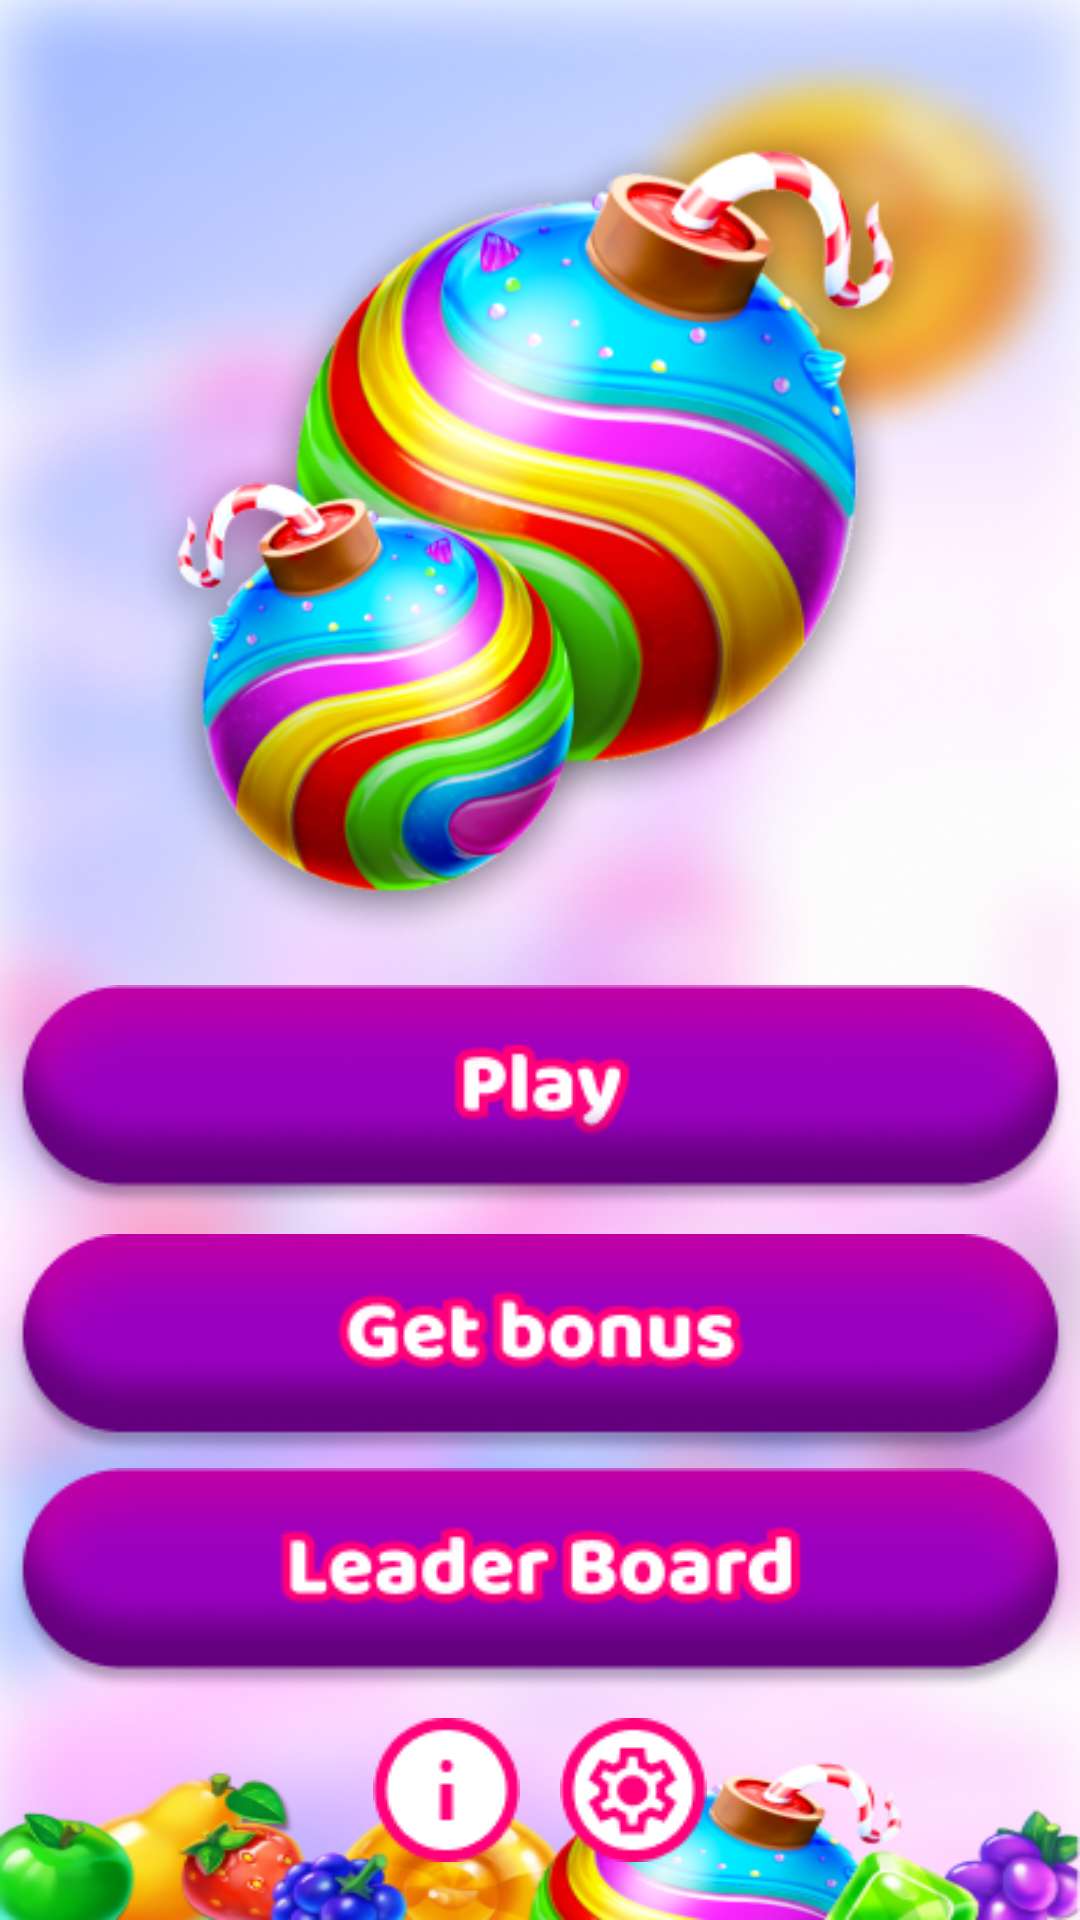

Screen size 1080w x 1920h. Icon name, then its center in pixels as [x,y]:
info: [446,1790]
settings: [633,1790]
